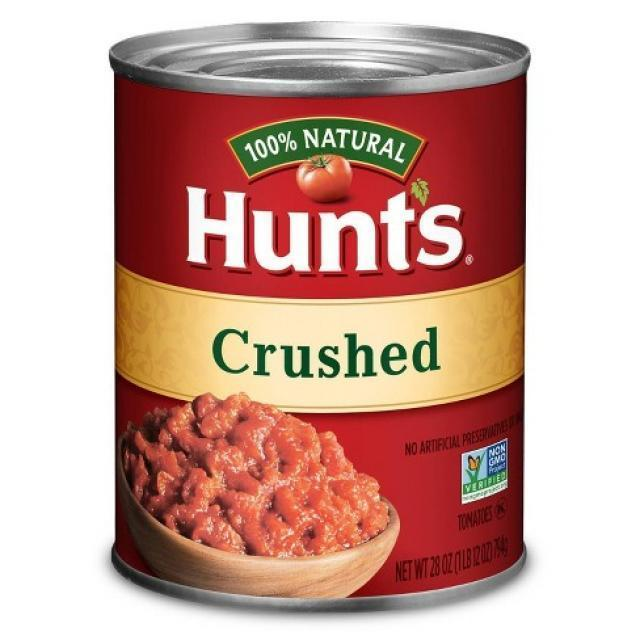metal-can: (104, 17, 530, 610)
